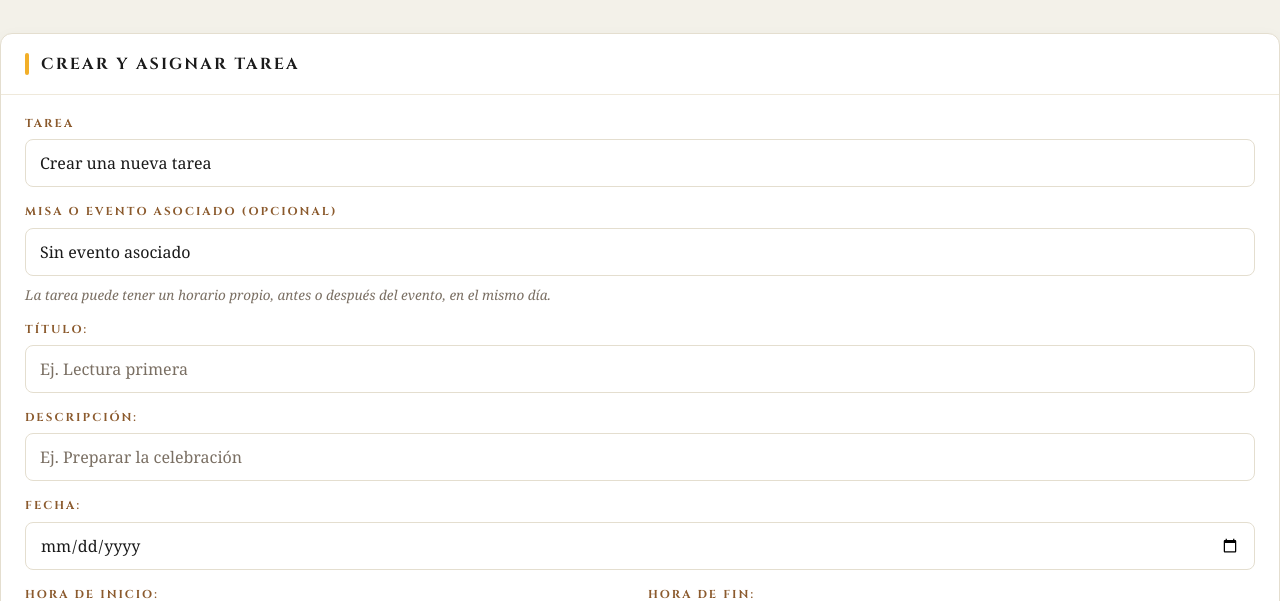
Scenario: integración de tareas, asignaciones y permisos › crea una tarea, limpia el formulario y refresca las asignaciones
Type "Nueva tarea" into the field labelled "Título:".
click(640, 369); type("Nueva tarea")  # box x1=25 y1=345 x2=1255 y2=393
Type "Descripción de prueba" into the field labelled "Descripción:".
click(640, 457); type("Descripción de prueba")  # box x1=25 y1=433 x2=1255 y2=481
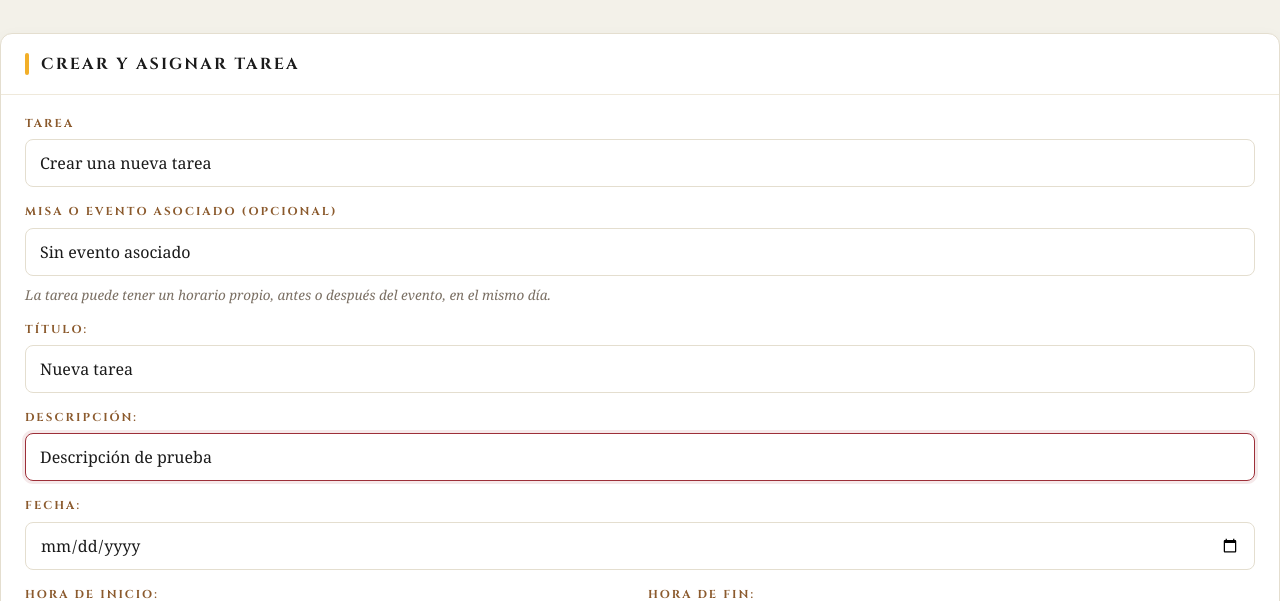
Type "2099-11-01" into the date field labelled "Fecha:".
click(640, 546); type("2099-11-01")  # box x1=25 y1=522 x2=1255 y2=570
(page scrolled)
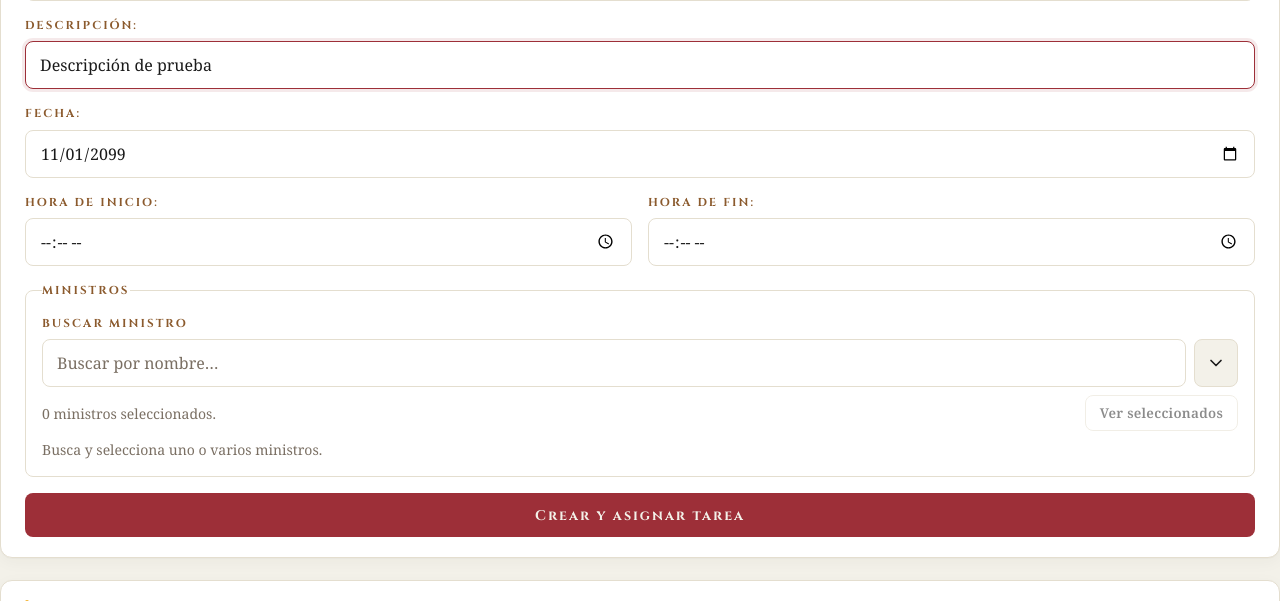
Type "14:00" into the time field labelled "Hora de Inicio:".
click(328, 242); type("14:00")  # box x1=25 y1=218 x2=632 y2=266
Type "15:00" into the time field labelled "Hora de Fin:".
click(952, 242); type("15:00")  # box x1=648 y1=218 x2=1255 y2=266
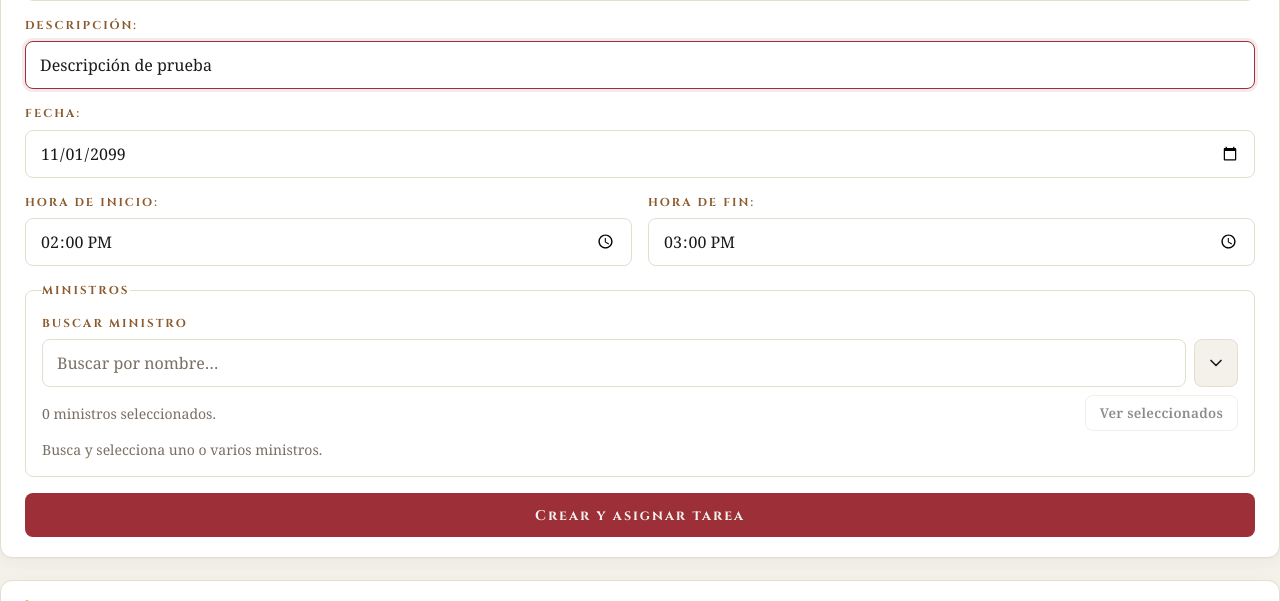
Click the button named "opciones de ministros".
click(1216, 363)  # box x1=1194 y1=339 x2=1238 y2=387
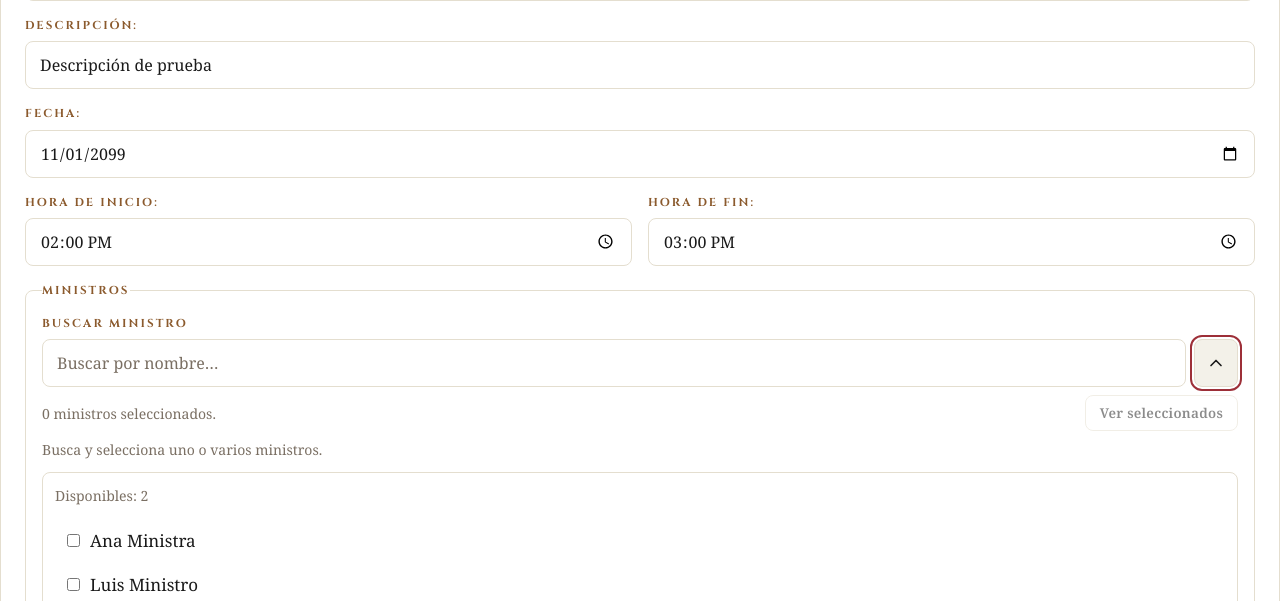
Click the checkbox labelled "Luis Ministro".
click(74, 584)  # box x1=67 y1=578 x2=80 y2=591
(page scrolled)
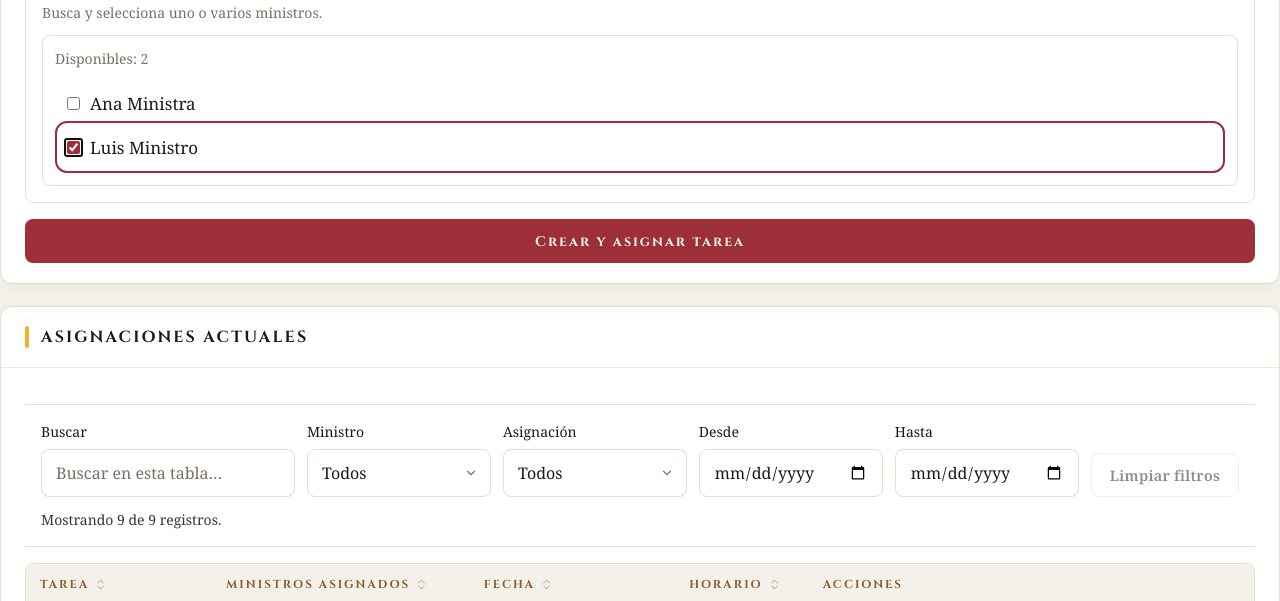
Click the button "Crear y asignar tarea".
click(640, 241)  # box x1=25 y1=219 x2=1255 y2=263
(page scrolled)
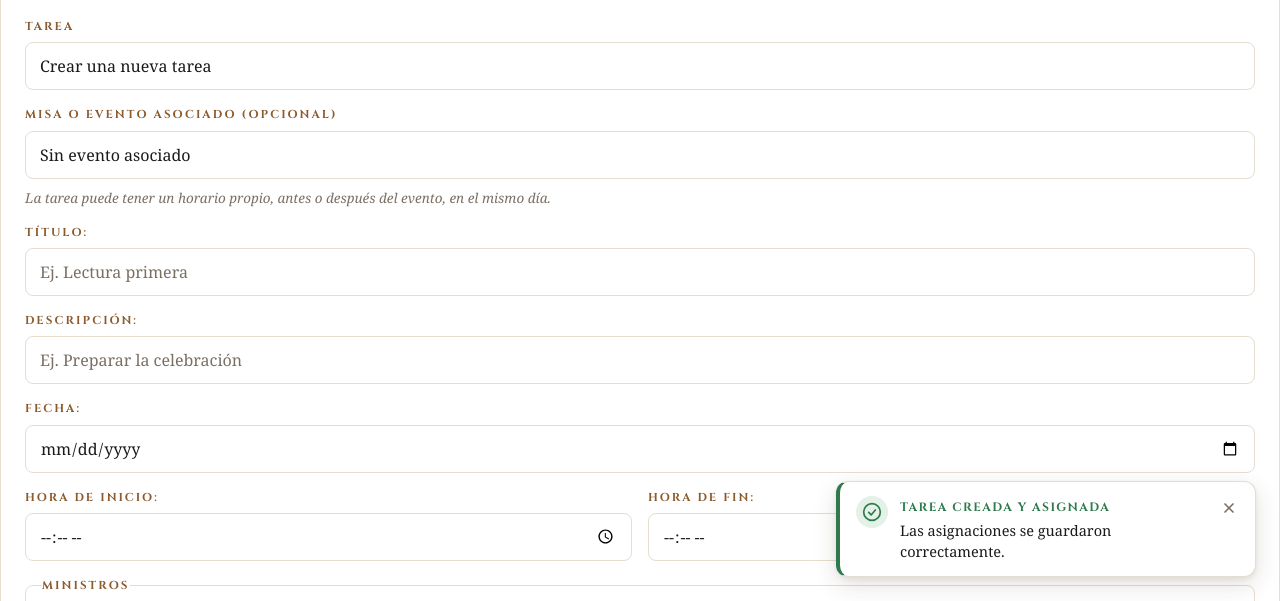
Expected: the message shows "Tarea creada", x1=900 y1=499 x2=1110 y2=515
Expected: the field labelled "Título:" is empty, x1=25 y1=248 x2=1255 y2=296
